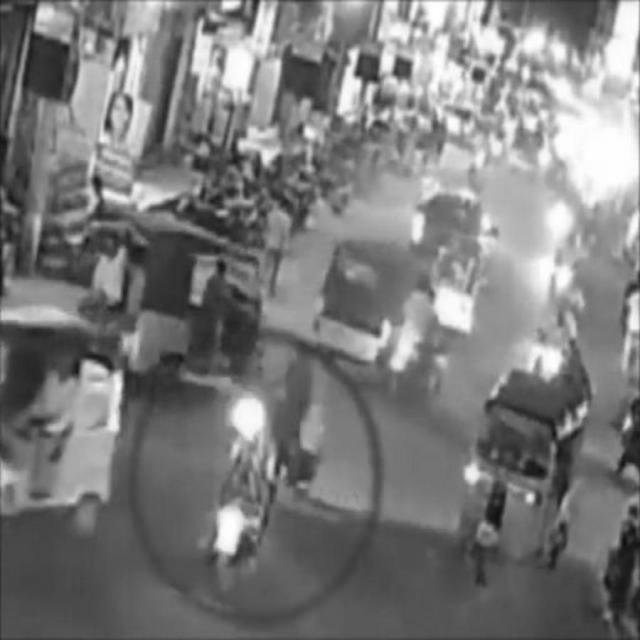vehicle: (1, 310, 121, 540), (455, 370, 583, 584), (129, 223, 266, 388), (208, 398, 278, 592), (316, 241, 389, 378)
